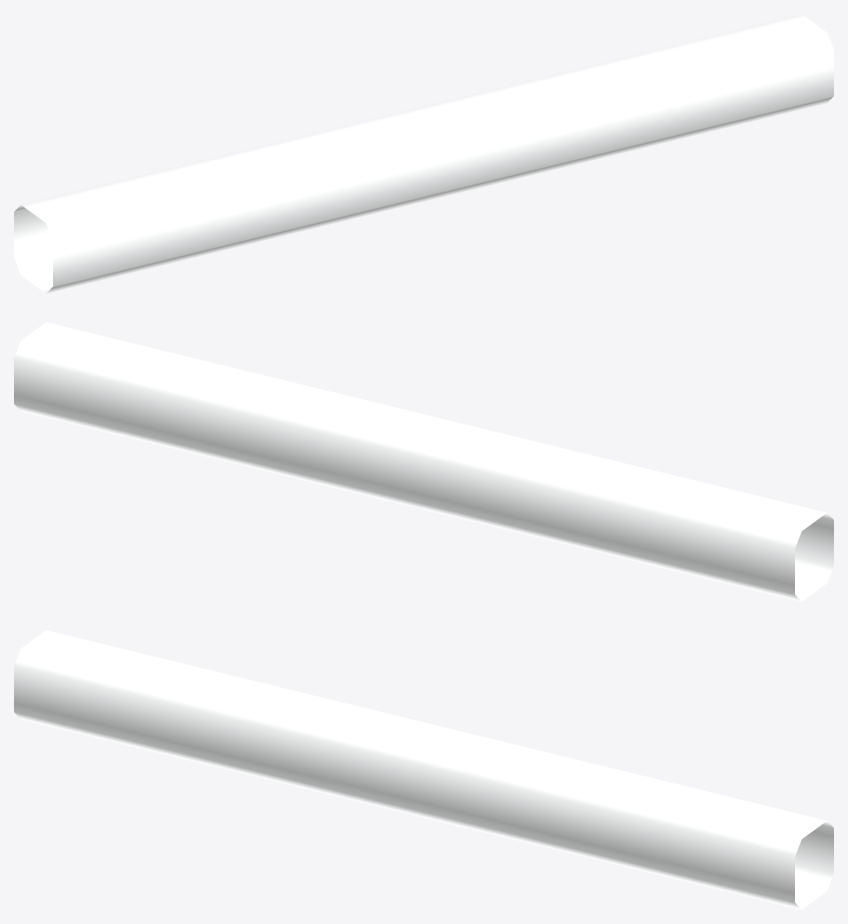
The model's file is Fence_02.glb.
3 views of the same model, one above another, from view 1: azimuth 30°, elevation 25°; view 2: azimuth 150°, elevation 25°; view 3: azimuth 330°, elevation 25° (orthographic).
Parts seen in each view (by area): view 1: Fence_02; view 2: Fence_02; view 3: Fence_02.
Part boxes in pixels (x1=…): Fence_02: x1=14, y1=14, x2=833, y2=293; Fence_02: x1=14, y1=322, x2=833, y2=601; Fence_02: x1=14, y1=630, x2=833, y2=909.
Bounding box in the file's own units: 2.23 × 0.1924 × 0.1924.
Materials: 1 (1 with a texture image).
